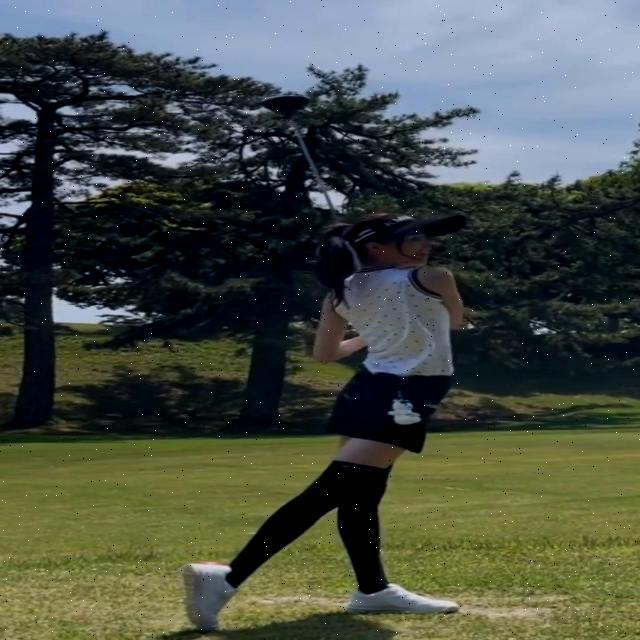golf club-handle: (263, 93, 340, 222)
golf club-head: (263, 93, 308, 114)
